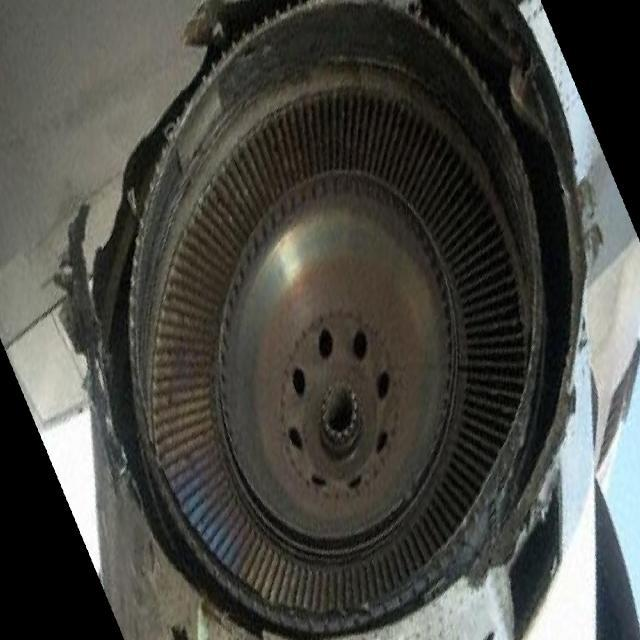crack: (55, 143, 122, 513)
